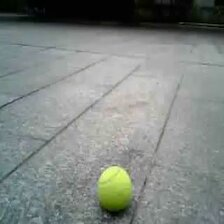tennis: (95, 167, 134, 208)
